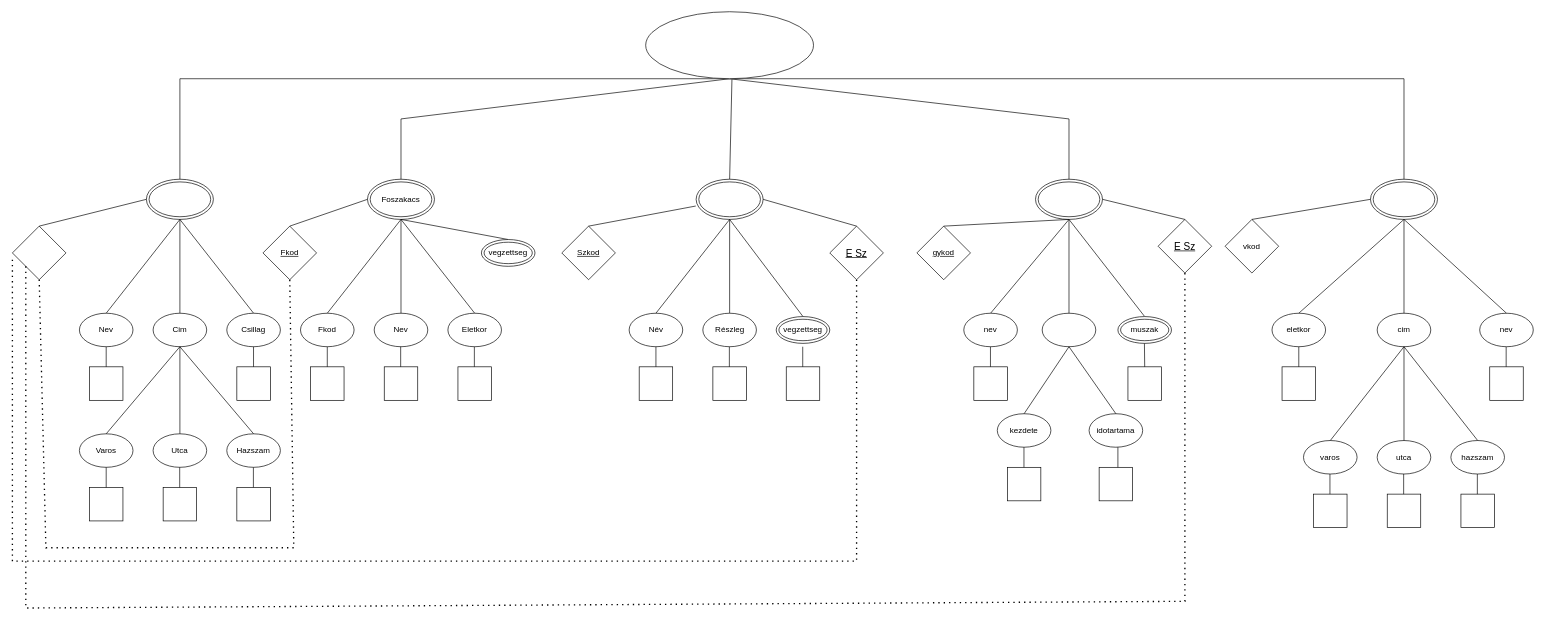
Some shapes in this 1545 by 621 pixel diagram are drawn without their labels. The box of each missing label's shape, as (x1, y1, x2, y2) in pixels:
Ekod: (12, 225, 66, 280)
Etterem: (146, 179, 213, 219)
gyakorlat: (1042, 313, 1096, 347)
gyakornok: (1035, 179, 1102, 219)
szakacs: (695, 179, 763, 219)
vendeg: (1370, 179, 1437, 219)
Vendeglatas: (645, 11, 814, 79)
